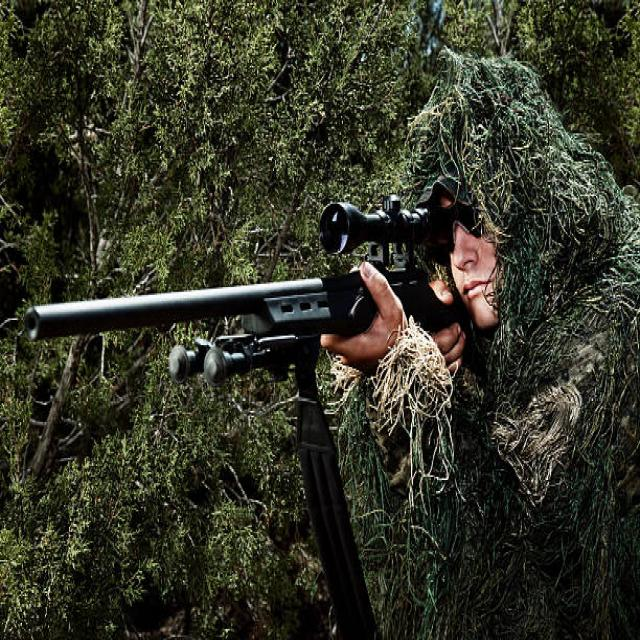soldier: (25, 43, 633, 631)
